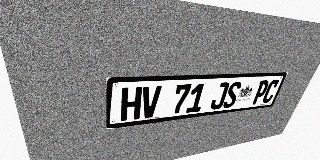1: (186, 83, 207, 113)
7: (170, 84, 192, 115)
C: (261, 79, 280, 104)
H: (120, 87, 142, 121)
J: (209, 82, 230, 110)
P: (251, 80, 271, 105)
S: (222, 81, 243, 108)
V: (140, 86, 162, 119)
